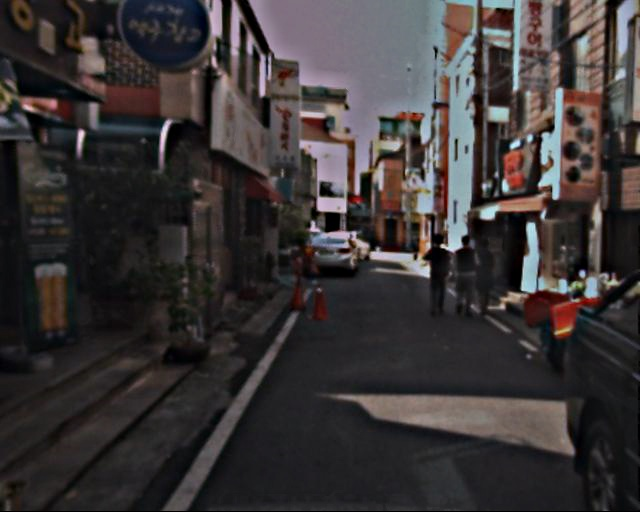person: (450, 234, 485, 319), (421, 235, 455, 318), (470, 235, 504, 318)
